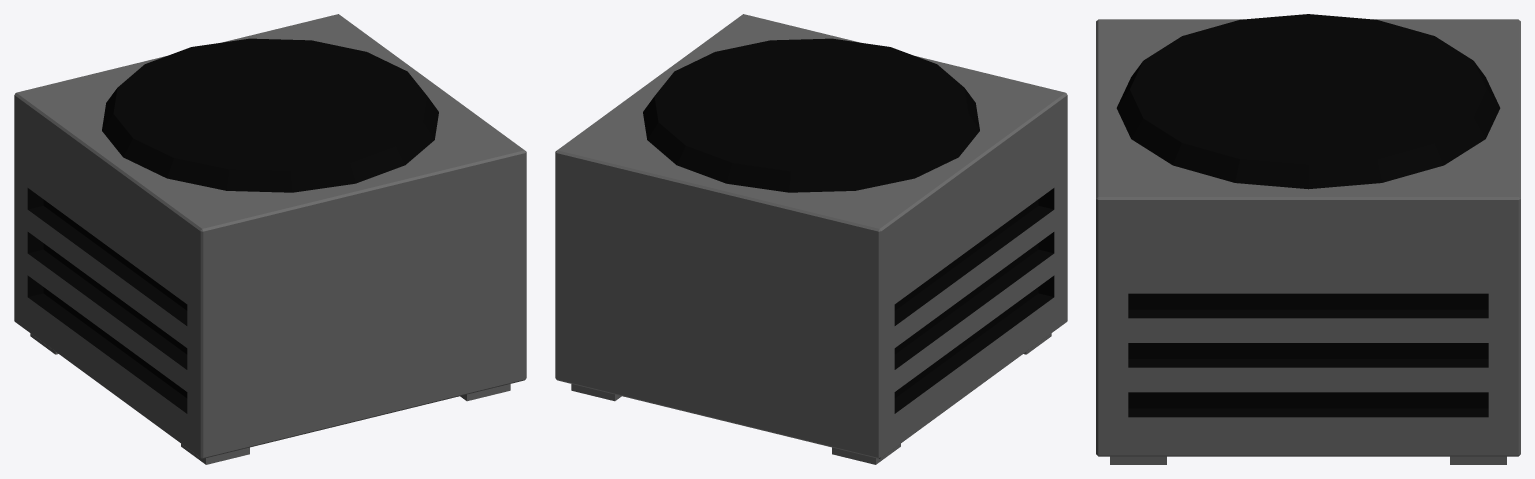
Rendered from Prop_RoofVent_07.fbx.
The picture shows the model from 3 angles, left to right: view 1: azimuth 30°, elevation 25°; view 2: azimuth 150°, elevation 25°; view 3: azimuth 270°, elevation 25°; orthographic projection. The views are drawn at different scales.
Visible parts, largest first — view 1: Prop_RoofVent_07; view 2: Prop_RoofVent_07; view 3: Prop_RoofVent_07.
Part boxes in pixels (x1,y1,x2,y2): Prop_RoofVent_07: [14, 14, 526, 464]; Prop_RoofVent_07: [555, 14, 1067, 464]; Prop_RoofVent_07: [1096, 14, 1520, 464].
Size of the model in its own units: 70.74 by 53.58 by 70.74.
